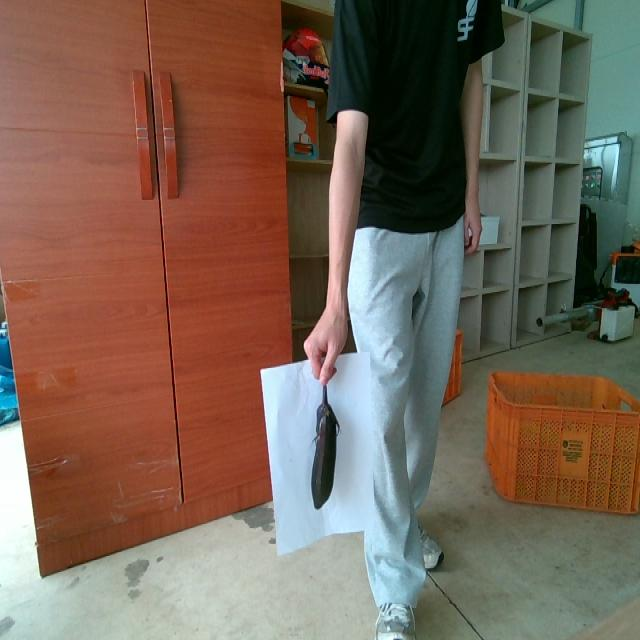Egg plant: (311, 385, 338, 508)
